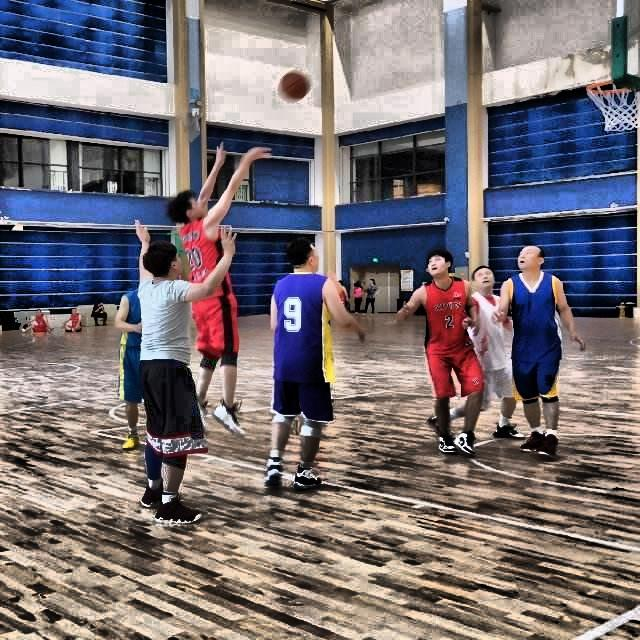rim: (585, 79, 640, 131)
